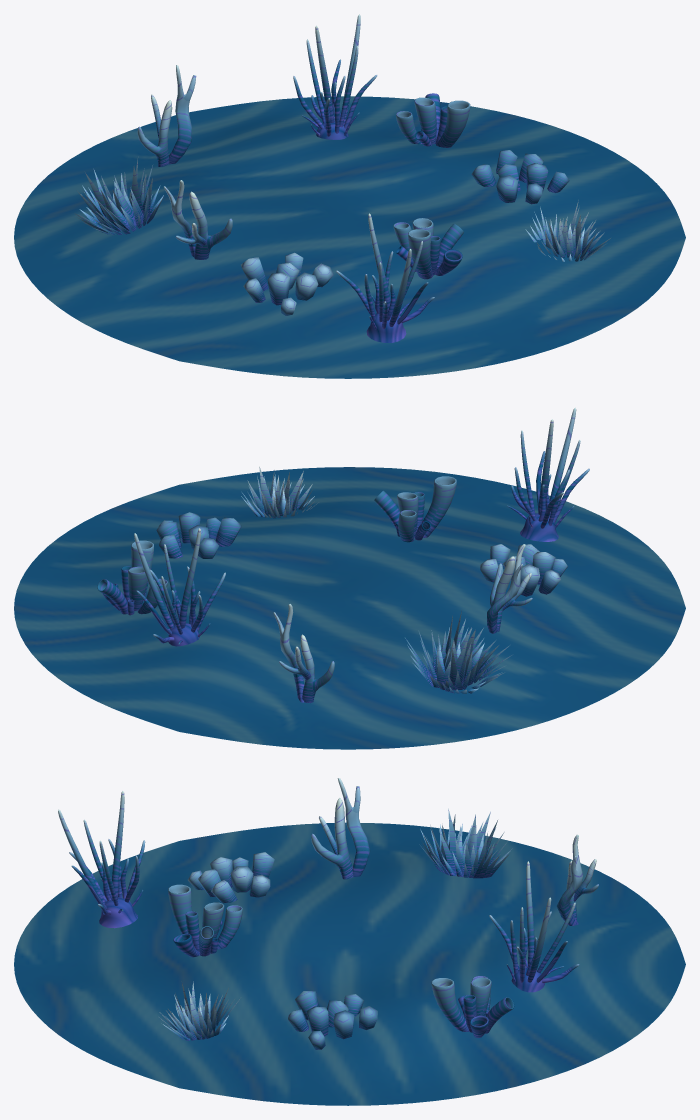
File: oceanFloorModel.glb
The picture shows the model from 3 angles, top to bottom: view 1: azimuth 30°, elevation 25°; view 2: azimuth 150°, elevation 25°; view 3: azimuth 270°, elevation 25°; orthographic projection.
Parts seen in each view (by area): view 1: pDisc1, Plant1_B, Plant1, Plant2, Coral2, Coral2_B, polySurface9, polySurface26, Coral1_B, Plant2_B, Coral1; view 2: pDisc1, Plant1_B, Plant2, Plant1, polySurface9, Coral2_B, Coral2, polySurface26, Coral1_B, Plant2_B, Coral1; view 3: pDisc1, Plant1_B, Plant1, polySurface9, Plant2, Coral2_B, polySurface26, Coral2, Coral1, Plant2_B, Coral1_B.
Part boxes in pixels (<box>): pDisc1: <box>14,96,685,378</box>; Plant1_B: <box>336,213,434,342</box>; Plant1: <box>293,14,377,139</box>; Plant2: <box>74,156,163,234</box>; Coral2: <box>241,252,333,315</box>; Coral2_B: <box>471,150,569,204</box>; polySurface9: <box>393,218,463,279</box>; polySurface26: <box>396,93,470,147</box>; Coral1_B: <box>137,65,196,166</box>; Plant2_B: <box>525,200,610,261</box>; Coral1: <box>163,180,232,259</box>; pDisc1: <box>14,467,685,749</box>; Plant1_B: <box>507,407,589,541</box>; Plant2: <box>405,610,511,693</box>; Plant1: <box>134,528,225,646</box>; polySurface9: <box>374,476,456,542</box>; Coral2_B: <box>156,512,241,558</box>; Coral2: <box>480,544,567,596</box>; polySurface26: <box>97,540,167,615</box>; Coral1_B: <box>273,604,334,703</box>; Plant2_B: <box>241,466,318,518</box>; Coral1: <box>487,544,532,633</box>; pDisc1: <box>14,822,685,1105</box>; Plant1_B: <box>58,791,145,928</box>; Plant1: <box>489,861,579,992</box>; polySurface9: <box>168,884,242,957</box>; Plant2: <box>419,808,512,878</box>; Coral2_B: <box>288,991,377,1049</box>; polySurface26: <box>431,976,514,1037</box>; Coral2: <box>188,852,274,903</box>; Coral1: <box>311,778,370,879</box>; Plant2_B: <box>159,981,239,1040</box>; Coral1_B: <box>556,834,598,925</box>.
Size of the model in its own units: 0.3006 by 0.0668 by 0.3022.
Materials: 2 (2 with a texture image).
